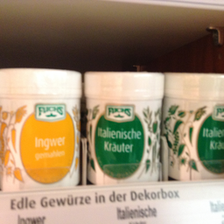spices: (1, 67, 84, 189), (84, 69, 166, 186), (163, 70, 224, 180)
